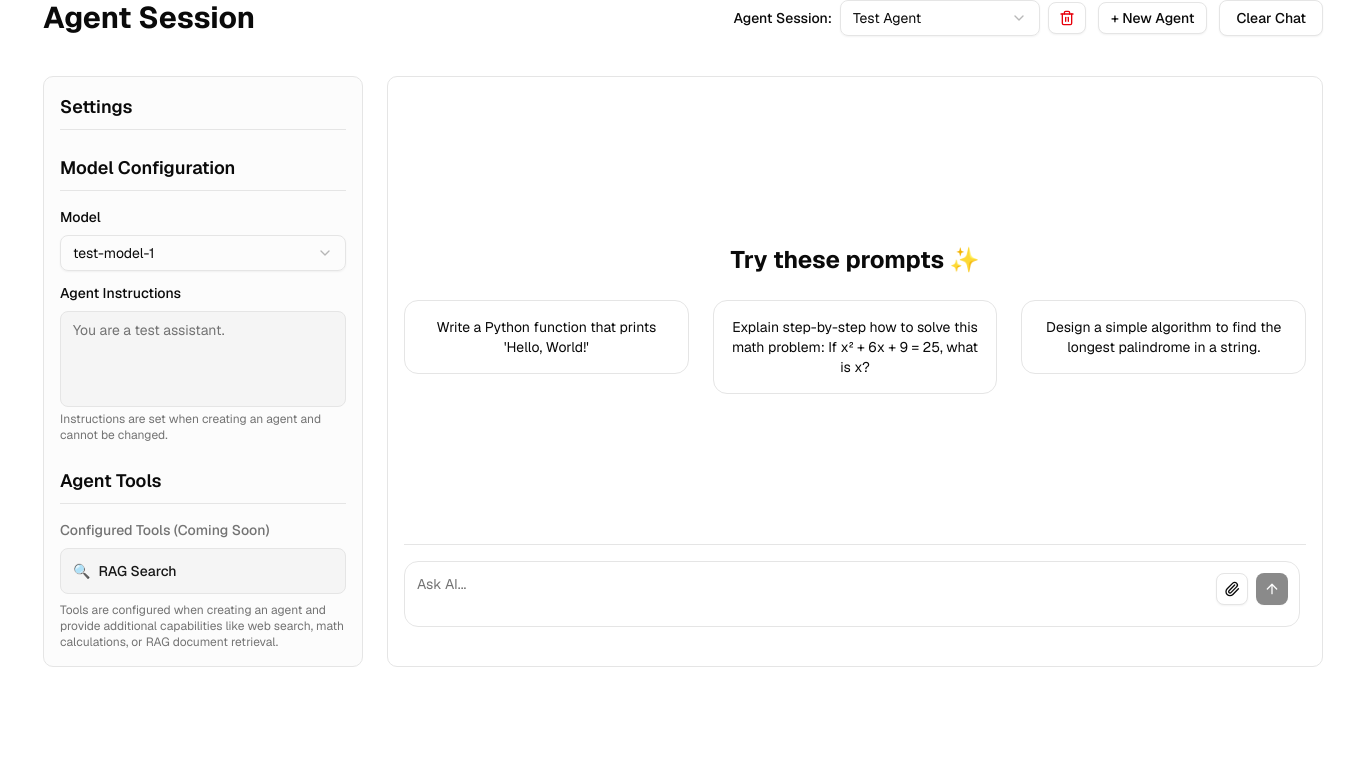
Test: ChatPlaygroundPage › Agent Creation Modal › opens agent creation modal when + New Agent is clicked
This screenshot has width=1366, height=768.
Click the button "+ New Agent" at (1153, 18), box [1098, 2, 1207, 34]
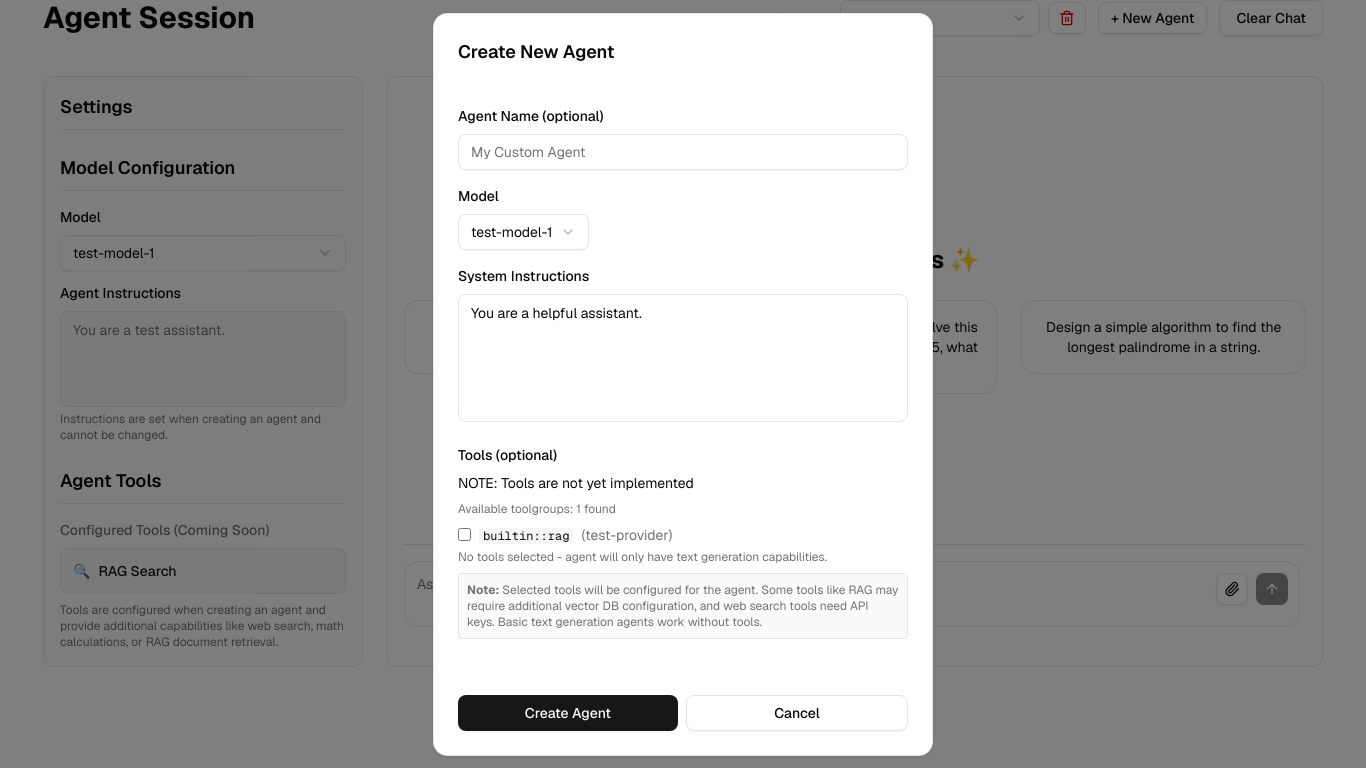
Expected: the heading "Create New Agent" is shown, [458, 40, 614, 62]
Expected: the text "Agent Name (optional)" is shown, [458, 106, 604, 124]
Expected: the text "Model" is shown 2 times, [60, 208, 101, 226]; [458, 186, 499, 204]
